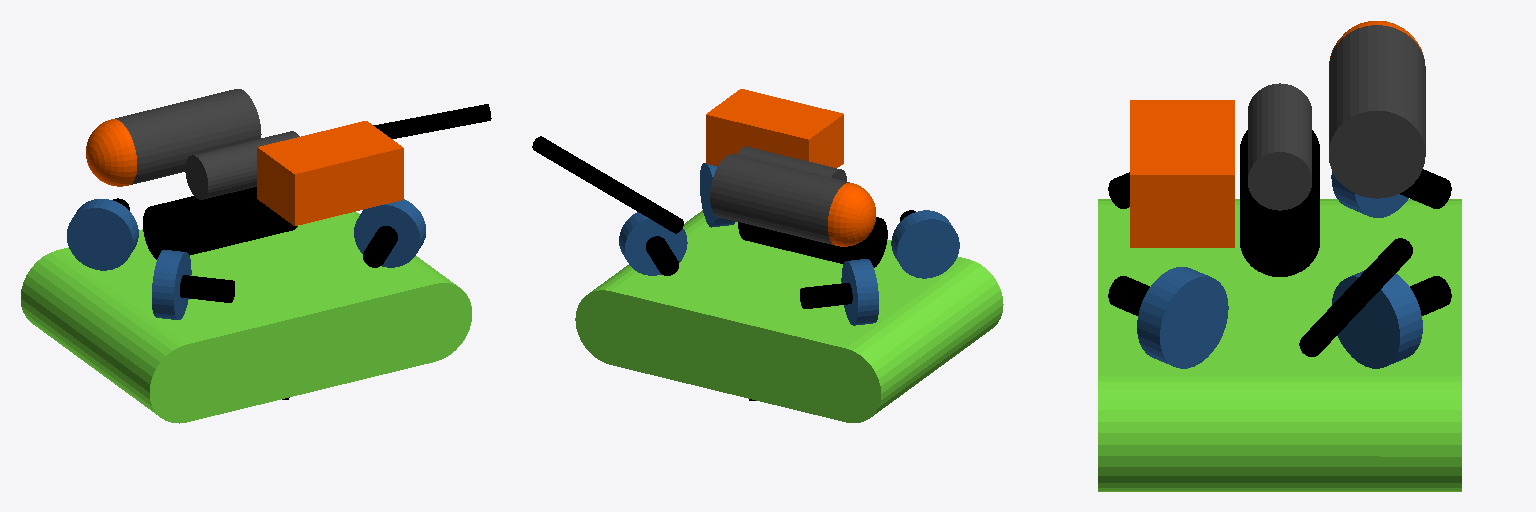
URDF robot description (OSU vLBV300 Volturnus):
<?xml version="1.0"?>
<robot name="OSU vLBV300 Volturnus">
  
  <material name="green">
    <color rgba="0.5 0.9 0.3 1"/>
  </material>
  <material name="black">
    <color rgba="0 0 0 1"/>
  </material>
  <material name="red">
    <color rgba="1 0 0 1"/>
  </material>
  <material name="blue">
    <color rgba="0.2 0.4 0.6 1" />
  </material>
  <material name="grey">
    <color rgba=".3 .3 .3 1"/>
  </material>
  <material name="orange">
    <color rgba="1 .4 0 1" />
  </material>

  <link name="base_link">
    <visual>
      <geometry>
        <box size="0.5 0.45 0.15"/>
      </geometry>
      <material name="green"/>
    </visual>
  </link>

  <link name="front_bumper">
    <visual>
      <geometry>
        <cylinder length="0.45" radius="0.075"/>
      </geometry>
      <material name="green"/>
    </visual>
  </link>
  <joint name="fbump_link" type="fixed">
    <parent link="base_link"/>
    <child link="front_bumper"/>
    <origin rpy="1.57075 0 0" xyz="0.25 0 0"/>
  </joint>

  <link name="rear_bumper">
    <visual>
      <geometry>
        <cylinder length="0.45" radius="0.075"/>
      </geometry>
      <material name="green"/>
    </visual>
  </link>
  <joint name="rbump_link" type="fixed">
    <parent link="base_link"/>
    <child link="rear_bumper"/>
    <origin rpy="1.57075 0 0" xyz="-0.25 0 0"/>
  </joint>

  <link name="l_arrow">
    <visual>
      <geometry>
        <box size="0.05 0.318 0.01"/>
      </geometry>
      <material name="black"/>
    </visual>
  </link>
  <joint name="l_arrow_link" type="fixed">
    <parent link="base_link"/>
    <child link="l_arrow"/>
    <origin rpy="0 0 0.79" xyz="0.05 0.095 0.075"/>
  </joint>

  <link name="r_arrow">
    <visual>
      <geometry>
        <box size="0.05 0.318 0.01"/>
      </geometry>
      <material name="black"/>
    </visual>
  </link>
  <joint name="r_arrow_link" type="fixed">
    <parent link="base_link"/>
    <child link="r_arrow"/>
    <origin rpy="0 0 -0.79" xyz="0.05 -0.095 0.075"/>
  </joint>


  <link name="sf_fan">
    <visual>
      <geometry>
        <cylinder length="0.04" radius="0.06"/>
      </geometry>
      <material name="blue"/>
    </visual>
  </link>
  <joint name="base_to_sf_fan" type="fixed">
    <parent link="base_link"/>
    <child link="sf_fan"/>
    <origin rpy="0 1.57075 0.785" xyz="0.22 -0.12 -0.14"/>
  </joint>
  <link name="sf_thruster">
    <visual>
      <geometry>
        <cylinder length="0.1" radius="0.02"/>
      </geometry>
      <material name="black"/>
    </visual>
  </link>
  <joint name="sf_fan_thruster_joint" type="fixed">
    <parent link="sf_fan"/>
    <child link="sf_thruster"/>
    <origin xyz="0 0 -0.06"/>
  </joint>

  <link name="pf_fan">
    <visual>
      <geometry>
        <cylinder length="0.04" radius="0.06"/>
      </geometry>
      <material name="blue"/>
    </visual>
  </link>
  <joint name="base_to_pf_fan" type="fixed">
    <parent link="base_link"/>
    <child link="pf_fan"/>
    <origin rpy="0 1.57075 -0.785" xyz="0.22 0.12 -0.14"/>
  </joint>
  <link name="pf_thruster">
    <visual>
      <geometry>
        <cylinder length="0.1" radius="0.02"/>
      </geometry>
      <material name="black"/>
    </visual>
  </link>
  <joint name="pf_fan_thruster_joint" type="fixed">
    <parent link="pf_fan"/>
    <child link="pf_thruster"/>
    <origin xyz="0 0 -0.06"/>
  </joint>

  <link name="sa_fan">
    <visual>
      <geometry>
        <cylinder length="0.04" radius="0.06"/>
      </geometry>
      <material name="blue"/>
    </visual>
  </link>
  <joint name="base_to_sa_fan" type="fixed">
    <parent link="base_link"/>
    <child link="sa_fan"/>
    <origin rpy="0 -1.57075 -0.785" xyz="-0.22 -0.12 -0.14"/>
  </joint>
  <link name="sa_thruster">
    <visual>
      <geometry>
        <cylinder length="0.1" radius="0.02"/>
      </geometry>
      <material name="black"/>
    </visual>
  </link>
  <joint name="sa_fan_thruster_joint" type="fixed">
    <parent link="sa_fan"/>
    <child link="sa_thruster"/>
    <origin xyz="0 0 -0.06"/>
  </joint>

  <link name="pa_fan">
    <visual>
      <geometry>
        <cylinder length="0.04" radius="0.06"/>
      </geometry>
      <material name="blue"/>
    </visual>
  </link>
  <joint name="base_to_pa_fan" type="fixed">
    <parent link="base_link"/>
    <child link="pa_fan"/>
    <origin rpy="0 -1.57075 0.785" xyz="-0.22 0.12 -0.14"/>
  </joint>
  <link name="pa_thruster">
    <visual>
      <geometry>
        <cylinder length="0.1" radius="0.02"/>
      </geometry>
      <material name="black"/>
    </visual>
  </link>
  <joint name="pa_fan_thruster_joint" type="fixed">
    <parent link="pa_fan"/>
    <child link="pa_thruster"/>
    <origin xyz="0 0 -0.06"/>
  </joint>

  <link name="seabotix_bottle">
    <visual>
      <geometry>
        <cylinder length="0.26" radius="0.05"/>
      </geometry>
      <material name="black"/>
    </visual>
  </link>
  <joint name="sbottle_link" type="fixed">
    <parent link="base_link"/>
    <child link="seabotix_bottle"/>
    <origin rpy="0 1.57075 0" xyz="-0.05 0 -0.18"/>
  </joint>

  <link name="greensea">
    <visual>
      <geometry>
        <cylinder length="0.2" radius="0.04"/>
      </geometry>
      <origin rpy="0 1.57075 0"/>
      <material name="grey"/>
    </visual>
  </link>
  <joint name="gbottle_link" type="fixed">
    <parent link="greensea"/>
    <child link="base_link"/>
    <origin rpy="-3.14159 0 0" xyz="0 0 -0.27"/>
  </joint>

  <link name="dvl">
    <visual>
      <geometry>
        <cylinder length="0.25" radius="0.06"/>
      </geometry>
      <material name="grey"/>
    </visual>
  </link>
  <joint name="dvl_link" type="fixed">
    <parent link="base_link"/>
    <child link="dvl"/>
    <origin rpy="0 1.57075 0" xyz="-0.06 -0.12 -0.29"/>
  </joint>

  <link name="dvl_head">
    <visual>
      <geometry>
        <sphere radius="0.06"/>
      </geometry>
      <material name="orange"/>
    </visual>
  </link>
  <joint name="dvl_head_link" type="fixed">
    <parent link="dvl"/>
    <child link="dvl_head"/>
    <origin xyz="0 0 -0.125"/>
  </joint>

  <link name="dvl_beam1">
    <visual>
      <geometry>
        <cylinder length="0.07" radius="0.01"/>
      </geometry>
      <origin rpy="0 1.57075 0" xyz="0 0 -0.035"/>
      <material name="blue"/>
    </visual>
  </link>
  <joint name="dvl_beam1_link" type="fixed">
    <parent link="dvl_head"/>
    <child link="dvl_beam1"/>
    <origin rpy="0 0 0" xyz="0 0 0"/>
  </joint>

  <link name="sonar">
    <visual>
      <geometry>
        <box size="0.22 0.13 0.1"/>
      </geometry>
      <material name="orange"/>
    </visual>
  </link>
  <joint name="sonar_link" type="fixed">
    <parent link="base_link"/>
    <child link="sonar"/>
    <origin xyz="0.1 0.12 -0.28"/>
  </joint>

  <link name="gripper_pole">
    <visual>
      <geometry>
        <cylinder length="0.38" radius="0.015"/>
      </geometry>
      <origin rpy="0 1.57075 0" xyz="0.19 0 0"/>
      <material name="black"/>
    </visual>
  </link>
  <joint name="gripper_pole_link" type="fixed">
    <parent link="base_link"/>
    <child link="gripper_pole"/>
    <origin rpy="0 0.1 0.3" xyz="0.15 -0.15 -0.2"/>
  </joint>


</robot>

--- Facts derived from the render (not from the file) ---
3 views of the same robot in one strip: view 1: azimuth 30°, elevation 25°; view 2: azimuth 150°, elevation 25°; view 3: azimuth 270°, elevation 25° (orthographic).
Model OSU vLBV300 Volturnus with 20 links and 19 joints (19 fixed), rooted at greensea, posed every joint at zero.
Links seen in each view (by area): view 1: base_link, rear_bumper, sonar, dvl, seabotix_bottle, front_bumper, sa_fan, greensea, pf_fan, dvl_head, pa_fan, gripper_pole (+2 smaller); view 2: base_link, rear_bumper, dvl, sonar, front_bumper, pa_fan, seabotix_bottle, gripper_pole, dvl_head, sf_fan, sa_fan, greensea (+3 smaller); view 3: front_bumper, base_link, sonar, dvl, greensea, pf_fan, seabotix_bottle, sf_fan, gripper_pole, sa_fan, sa_thruster, sf_thruster (+2 smaller).
Link boxes in pixels (x1=…): base_link: x1=58, y1=215, x2=434, y2=421; rear_bumper: x1=21, y1=250, x2=223, y2=423; sonar: x1=257, y1=121, x2=403, y2=225; dvl: x1=115, y1=89, x2=261, y2=184; seabotix_bottle: x1=143, y1=187, x2=297, y2=259; front_bumper: x1=342, y1=212, x2=471, y2=362; sa_fan: x1=67, y1=199, x2=138, y2=270; greensea: x1=185, y1=131, x2=299, y2=199; pf_fan: x1=354, y1=199, x2=425, y2=267; dvl_head: x1=86, y1=119, x2=136, y2=186; pa_fan: x1=152, y1=250, x2=191, y2=319; gripper_pole: x1=373, y1=104, x2=491, y2=138; base_link: x1=611, y1=222, x2=967, y2=421; rear_bumper: x1=811, y1=259, x2=1003, y2=422; dvl: x1=710, y1=154, x2=849, y2=244; sonar: x1=706, y1=89, x2=843, y2=167; front_bumper: x1=575, y1=210, x2=705, y2=364; pa_fan: x1=891, y1=210, x2=959, y2=278; seabotix_bottle: x1=738, y1=217, x2=887, y2=267; gripper_pole: x1=532, y1=136, x2=683, y2=233; dvl_head: x1=828, y1=183, x2=875, y2=246; sf_fan: x1=619, y1=212, x2=687, y2=275; sa_fan: x1=841, y1=259, x2=878, y2=325; greensea: x1=737, y1=146, x2=846, y2=181; front_bumper: x1=1098, y1=376, x2=1461, y2=491; base_link: x1=1098, y1=205, x2=1461, y2=375; sonar: x1=1130, y1=100, x2=1234, y2=247; dvl: x1=1329, y1=25, x2=1425, y2=198; greensea: x1=1248, y1=83, x2=1311, y2=210; pf_fan: x1=1137, y1=267, x2=1228, y2=368; seabotix_bottle: x1=1240, y1=130, x2=1319, y2=276; sf_fan: x1=1332, y1=270, x2=1422, y2=368; gripper_pole: x1=1299, y1=238, x2=1412, y2=356; sa_fan: x1=1331, y1=172, x2=1408, y2=217; sa_thruster: x1=1400, y1=169, x2=1451, y2=208; sf_thruster: x1=1410, y1=276, x2=1451, y2=315.
Size in the robot's own frame: 0.8409 by 0.45 by 0.43 metres.
Geometry: primitives only (box / cylinder / sphere), no mesh files.